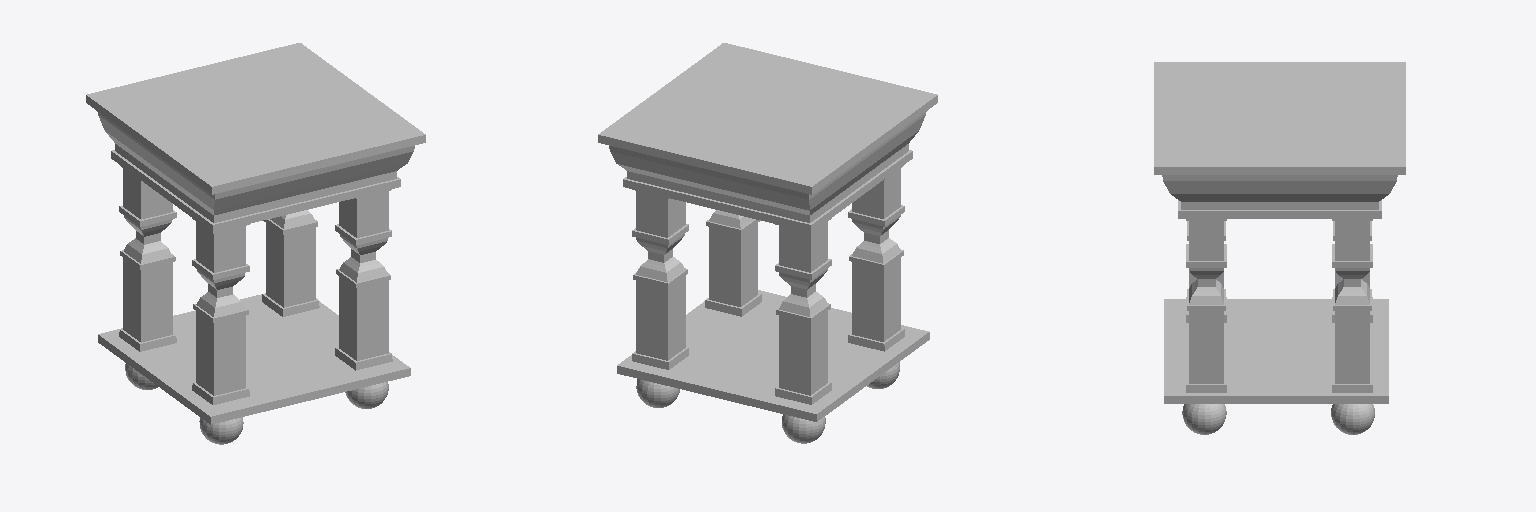
Rendered from end_table.obj.
3 renders of one model, left to right at view 1: azimuth 30°, elevation 25°; view 2: azimuth 150°, elevation 25°; view 3: azimuth 270°, elevation 25°, orthographic.
Parts seen in each view (by area): view 1: polySurface2695; view 2: polySurface2695; view 3: polySurface2695.
Boxes of the visible parts, x1=… form: polySurface2695: x1=86, y1=43, x2=425, y2=444; polySurface2695: x1=598, y1=43, x2=937, y2=443; polySurface2695: x1=1154, y1=62, x2=1405, y2=434.
Bounding box in the file's own units: 0.7801 × 0.9837 × 0.7946.